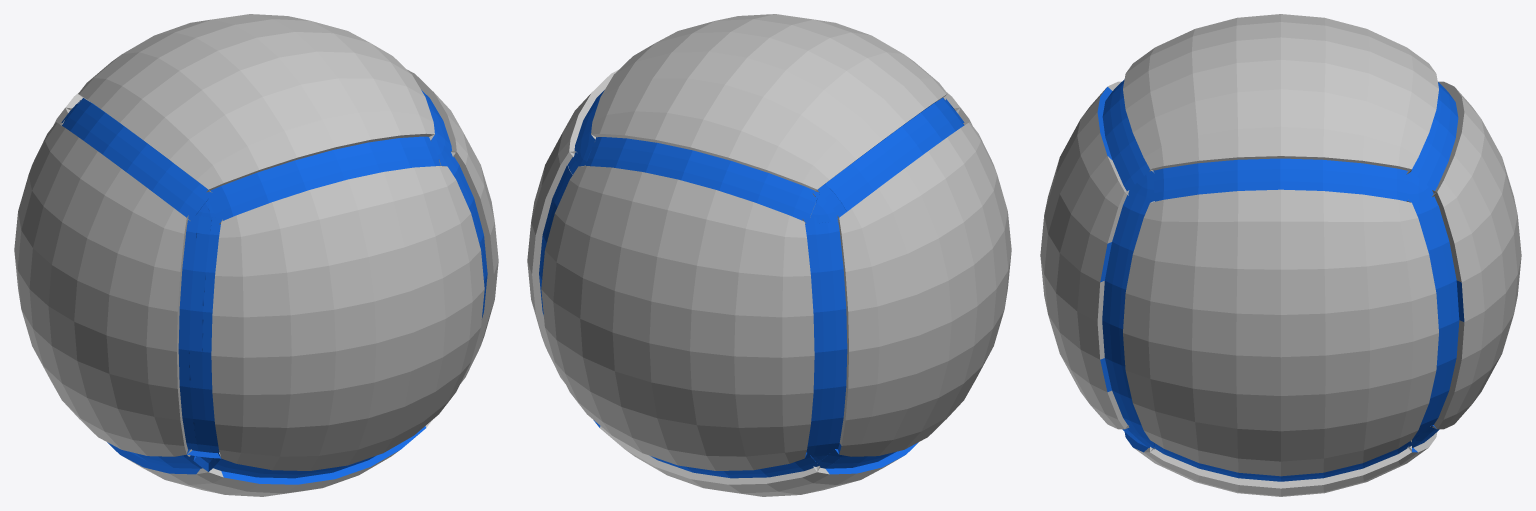
File: VolleyBall_Ball.obj
3 renders of one model, left to right at view 1: azimuth 30°, elevation 25°; view 2: azimuth 150°, elevation 25°; view 3: azimuth 270°, elevation 25°, orthographic.
Visible parts, largest first — view 1: Cube; view 2: Cube; view 3: Cube.
Boxes of the visible parts, x1,y1,x2,y2 form: Cube: [14, 14, 498, 496]; Cube: [527, 14, 1011, 496]; Cube: [1040, 14, 1521, 496].
Bounding box in the file's own units: 0.5 × 0.5 × 0.5.
2 materials, 2 textured.
